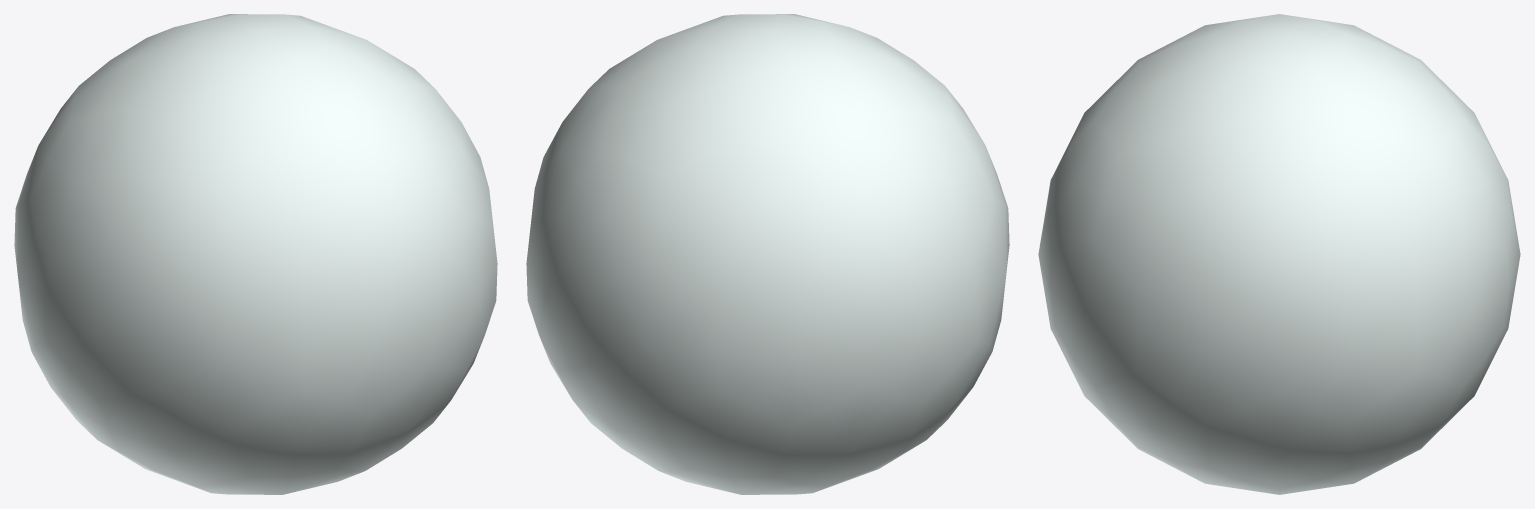
The model's file is RuletBall.fbx.
3 views of the same model, side by side, from view 1: azimuth 30°, elevation 25°; view 2: azimuth 150°, elevation 25°; view 3: azimuth 270°, elevation 25° (orthographic).
Visible parts, largest first — view 1: RuletBall; view 2: RuletBall; view 3: RuletBall.
Part boxes in pixels (x1,y1,x2,y2): RuletBall: (14, 14, 497, 494); RuletBall: (526, 14, 1009, 494); RuletBall: (1038, 14, 1520, 494).
Size of the model in its own units: 65.77 by 66.28 by 65.9.
